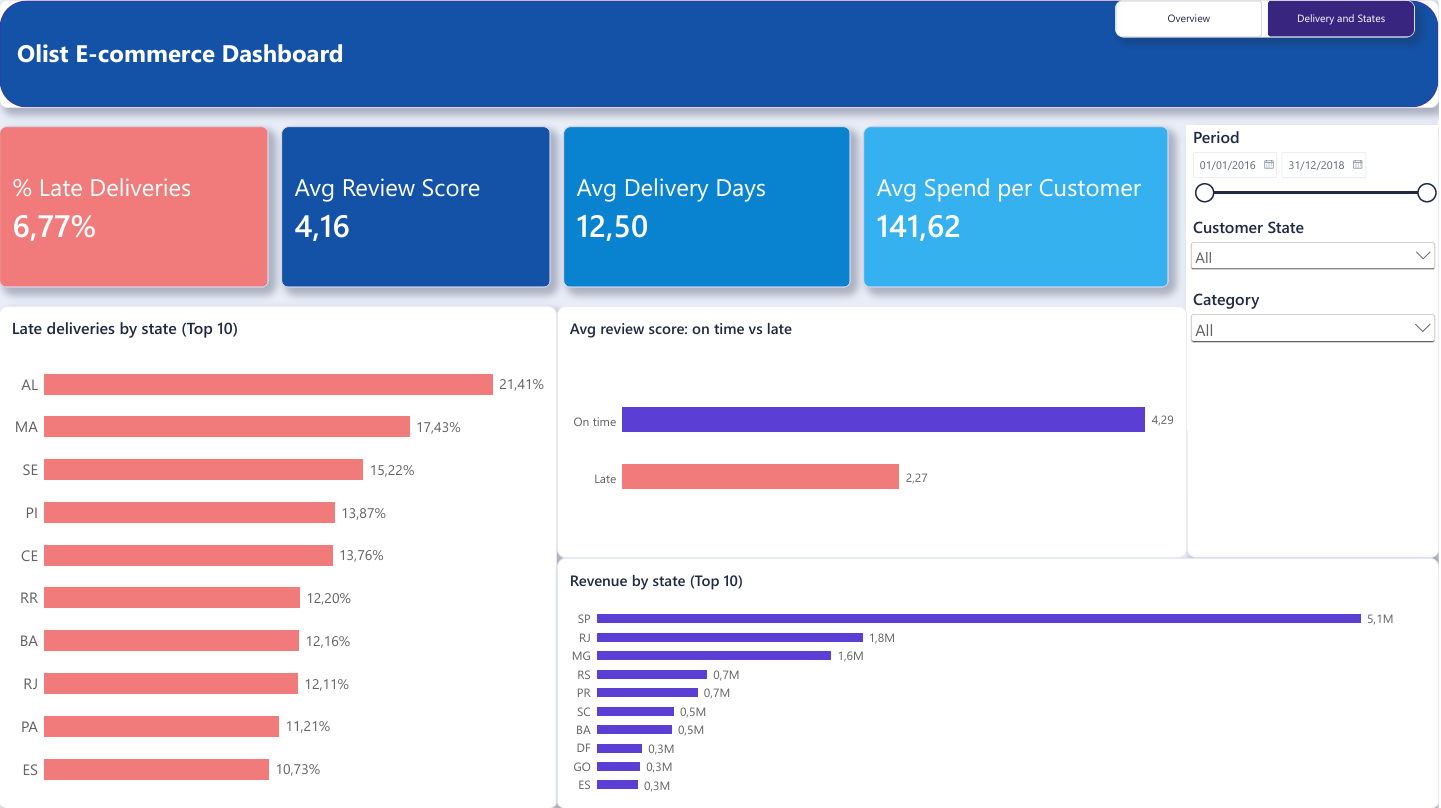

The dashboard page shown, as its layout file describes it:
{"tool":"powerbi","page":{"name":"Delivery and States","canvas":[1920,1080],"ordinal":1},"visuals":[{"type":"shape","box":[0,0,1920,144],"z":1000},{"type":"textbox","box":[24,48,504,48],"z":2000},{"type":"shape","box":[1584,168,336,576],"z":3000},{"type":"slicer","fields":{"Values":["Calendar.Date"]},"box":[1584,168,336,192],"z":4000},{"type":"slicer","fields":{"Values":["vw_orders.customer_state"]},"box":[1584,288,336,168],"z":5000},{"type":"slicer","fields":{"Values":["vw_order_items.category"]},"box":[1584,384,336,192],"z":6000},{"type":"cardVisual","fields":{"Data":["vw_orders.% Late Deliveries"]},"box":[0,168,360,216],"z":6001},{"type":"cardVisual","fields":{"Data":["vw_orders.Avg Review Score"]},"box":[376,168,360,216],"z":6002},{"type":"cardVisual","fields":{"Data":["vw_orders.Avg Delivery Days"]},"box":[752,168,384,216],"z":6003},{"type":"cardVisual","fields":{"Data":["vw_orders.Avg Spend per Customer"]},"box":[1152,168,408,216],"z":6004},{"type":"clusteredBarChart","title":"Late deliveries by state (Top 10)","fields":{"Category":["vw_orders.customer_state"],"Y":["vw_orders.% Late Deliveries"]},"box":[0,408,744,672],"z":6005},{"type":"clusteredBarChart","title":"Revenue by state (Top 10)","fields":{"Category":["vw_orders.customer_state"],"Y":["vw_orders.Total Revenue"]},"box":[744,744,1176,336],"z":6006},{"type":"clusteredBarChart","title":"Avg review score: on time vs late","fields":{"Category":["vw_orders.Delivery Status"],"Y":["vw_orders.Avg Review Score"]},"box":[744,408,840,336],"z":6007},{"type":"pageNavigator","box":[1488,0,400,50],"z":6008}]}

Visuals, with their boxes in screenshot pixels (x1, y1, x2, y2), scaled from the page's 1920x1080 canvas onto the 1441x808 screenshot:
shape: left=0, top=0, right=1440, bottom=108
textbox: left=18, top=36, right=396, bottom=72
shape: left=1189, top=126, right=1440, bottom=557
slicer - Calendar.Date: left=1189, top=126, right=1440, bottom=269
slicer - vw_orders.customer_state: left=1189, top=215, right=1440, bottom=341
slicer - vw_order_items.category: left=1189, top=287, right=1440, bottom=431
cardVisual - vw_orders.% Late Deliveries: left=0, top=126, right=270, bottom=287
cardVisual - vw_orders.Avg Review Score: left=282, top=126, right=552, bottom=287
cardVisual - vw_orders.Avg Delivery Days: left=564, top=126, right=853, bottom=287
cardVisual - vw_orders.Avg Spend per Customer: left=865, top=126, right=1171, bottom=287
"Late deliveries by state (Top 10)" clusteredBarChart: left=0, top=305, right=558, bottom=807
"Revenue by state (Top 10)" clusteredBarChart: left=558, top=557, right=1440, bottom=807
"Avg review score: on time vs late" clusteredBarChart: left=558, top=305, right=1189, bottom=557
pageNavigator: left=1117, top=0, right=1417, bottom=37
